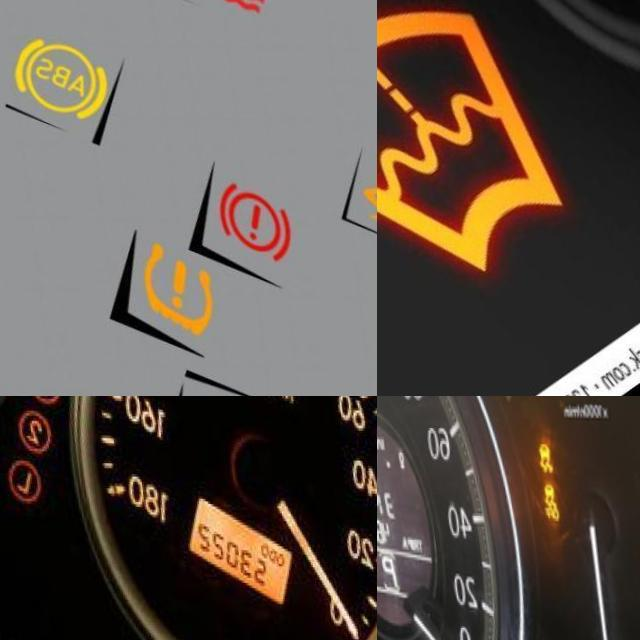Washer Fluid: (377, 0, 558, 272)
